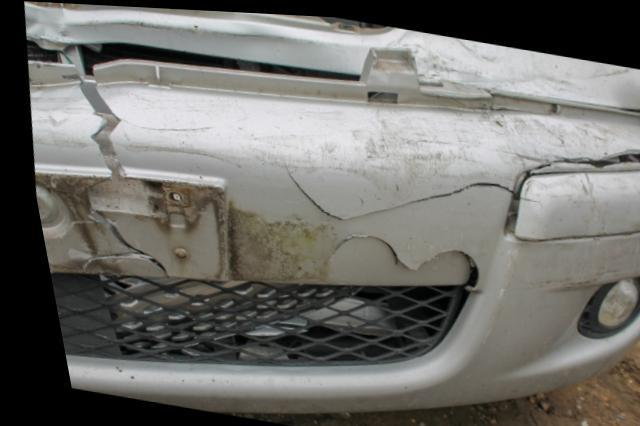crack: (279, 161, 507, 218), (319, 231, 471, 284), (56, 209, 158, 276), (75, 81, 118, 177), (523, 144, 640, 167)
scratch: (119, 105, 602, 184), (528, 165, 640, 281), (26, 89, 81, 149)
